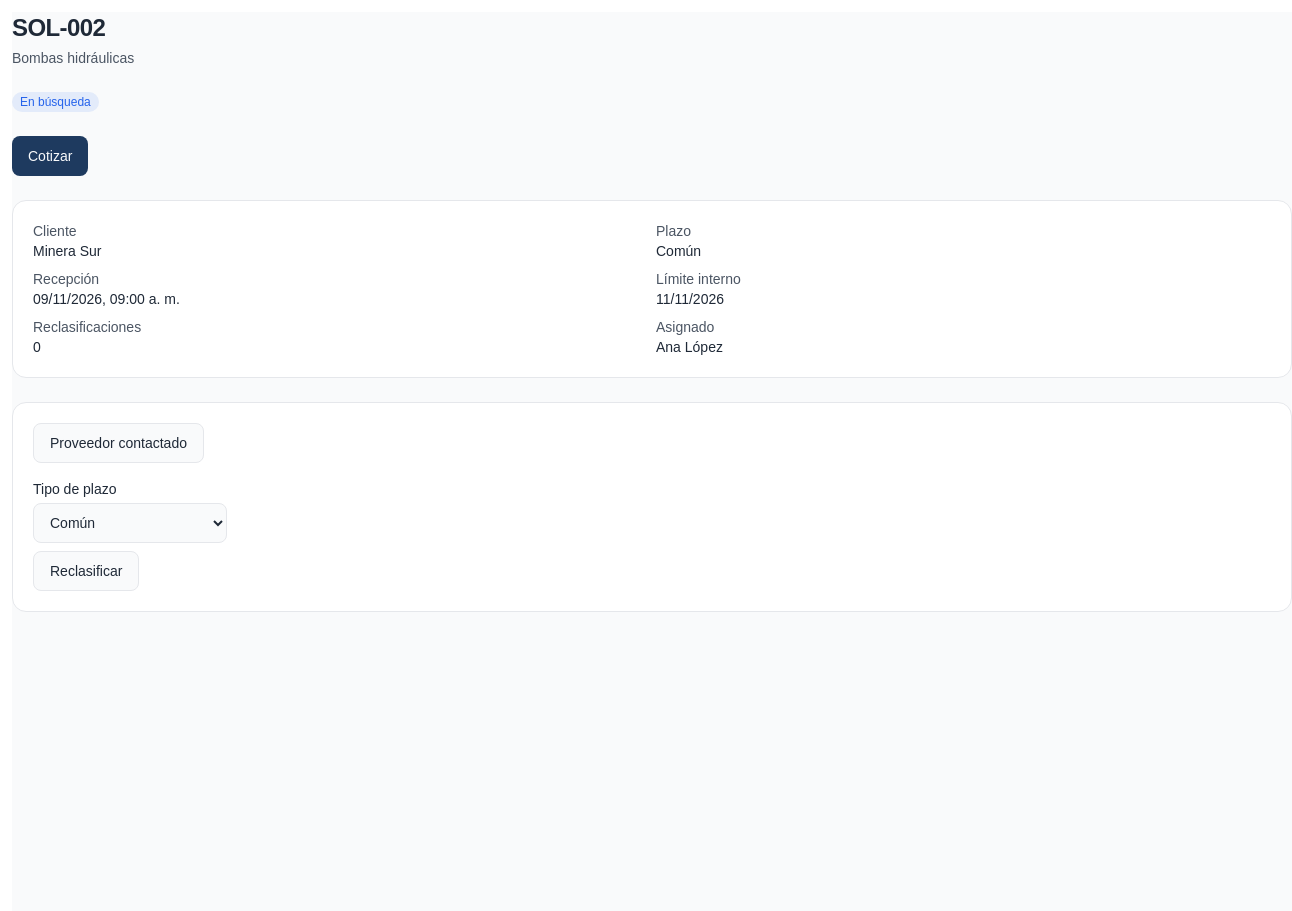
Test: SolicitudInternaPage › en En búsqueda el botón es «Proveedor contactado» y solo pide la fecha estimada de respuesta
The width and height of the screenshot is (1292, 911).
Click the button "Proveedor contactado" at (118, 443), box [33,423,204,463]
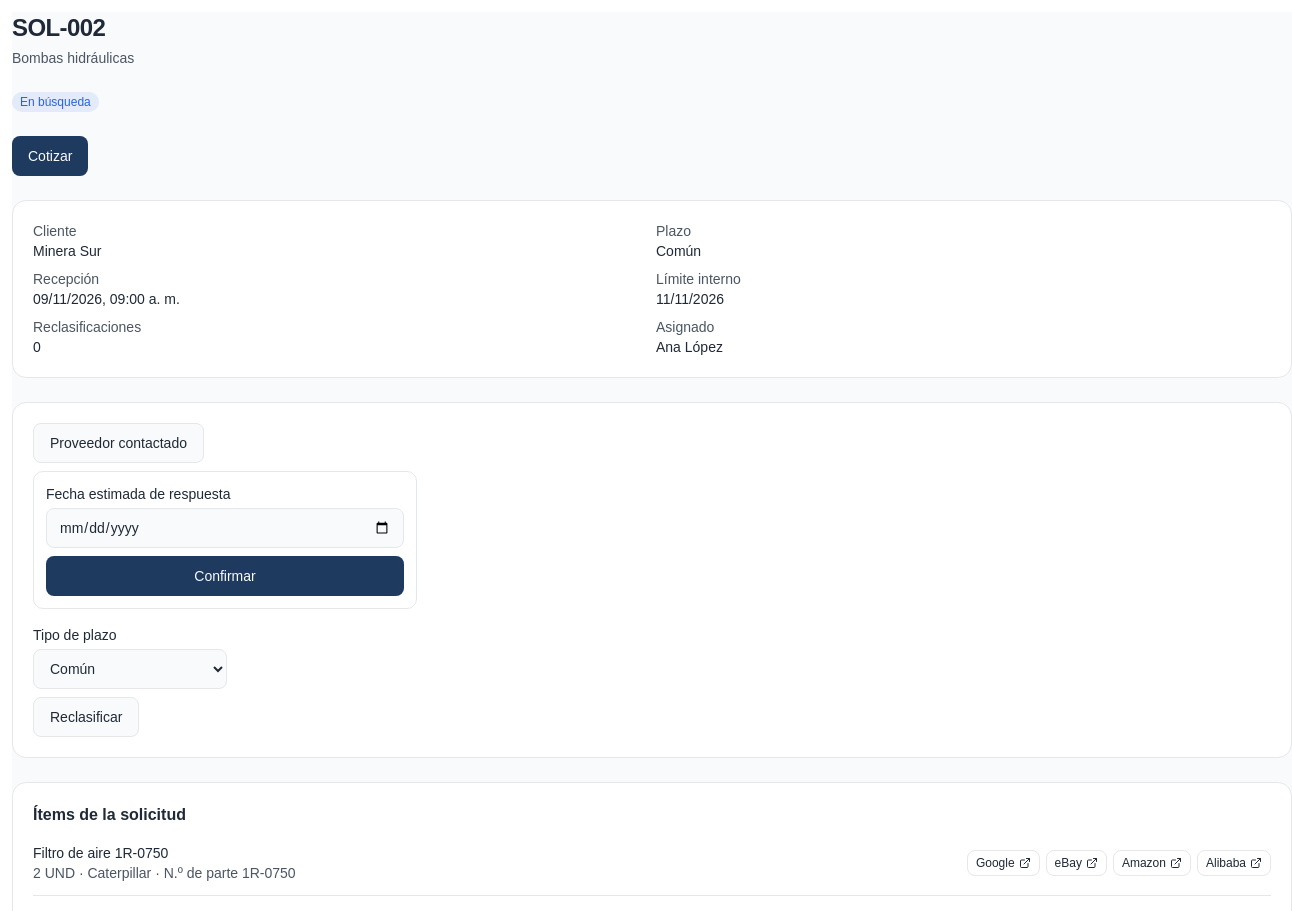
Expected: the date field labelled "Fecha estimada de respuesta" is shown, [46,508,404,548]
